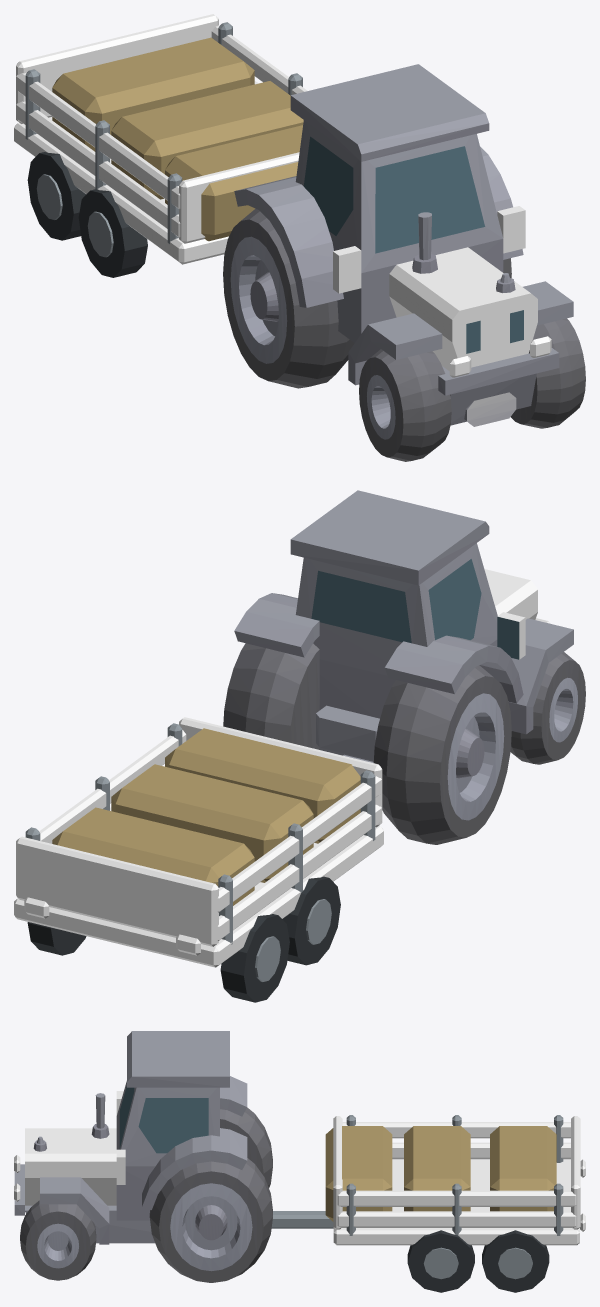
The model's file is farm-trailer.glb.
3 renders of one model, top to bottom at view 1: azimuth 30°, elevation 25°; view 2: azimuth 150°, elevation 25°; view 3: azimuth 270°, elevation 25°, orthographic. The views are drawn at different scales.
Visible parts, largest first — view 1: trim, body, head; view 2: trim, body, tail; view 3: trim, body.
Part boxes in pixels (left/top/right/bottom): trim: left=25, top=22, right=585, bottom=461; body: left=14, top=14, right=537, bottom=370; head: left=449, top=336, right=551, bottom=377; trim: left=25, top=490, right=585, bottom=1002; body: left=14, top=569, right=537, bottom=967; tail: left=24, top=897, right=200, bottom=955; trim: left=14, top=1031, right=563, bottom=1292; body: left=25, top=1091, right=580, bottom=1245.
Size of the model in its own units: 2.43 by 2.9 by 7.5.
